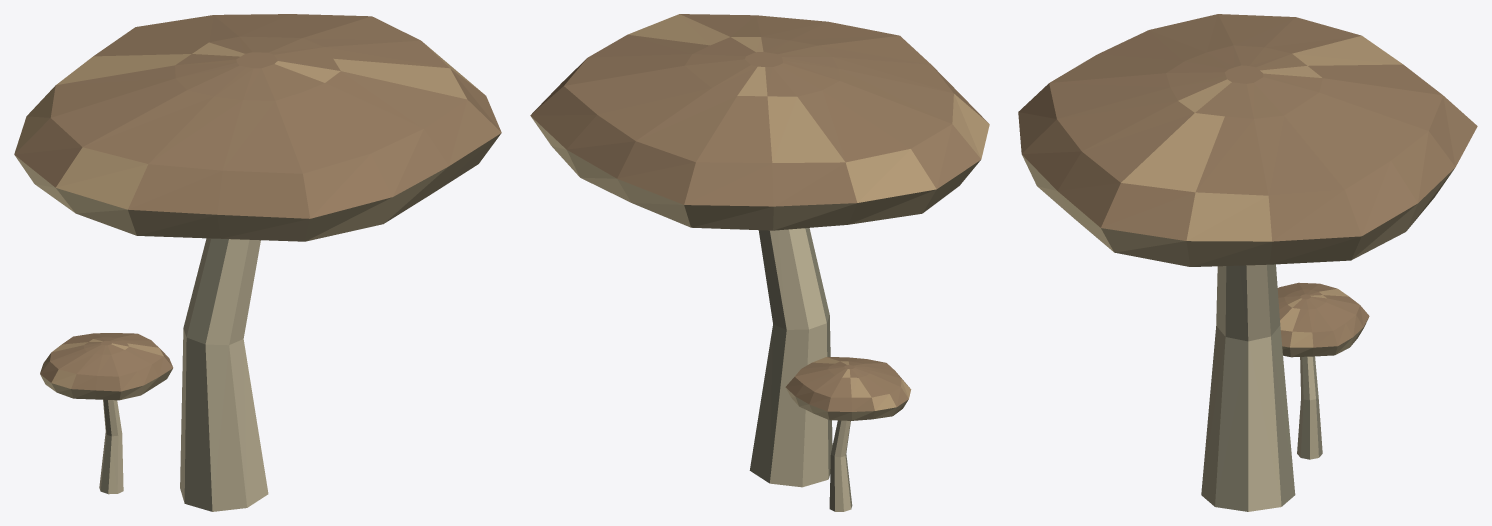
File: AE_Mushroom_BrownCanopy.fbx
3 views of the same model, side by side, from view 1: azimuth 30°, elevation 25°; view 2: azimuth 150°, elevation 25°; view 3: azimuth 270°, elevation 25° (orthographic). The views are drawn at different scales.
Parts seen in each view (by area): view 1: AE_Mushroom_BrownCanopy; view 2: AE_Mushroom_BrownCanopy; view 3: AE_Mushroom_BrownCanopy.
Part boxes in pixels (x1,y1,x2,y2): AE_Mushroom_BrownCanopy: (14,14,501,511); AE_Mushroom_BrownCanopy: (530,14,989,511); AE_Mushroom_BrownCanopy: (1018,14,1477,511).
Bounding box in the file's own units: 1.77 × 1.73 × 1.64.
